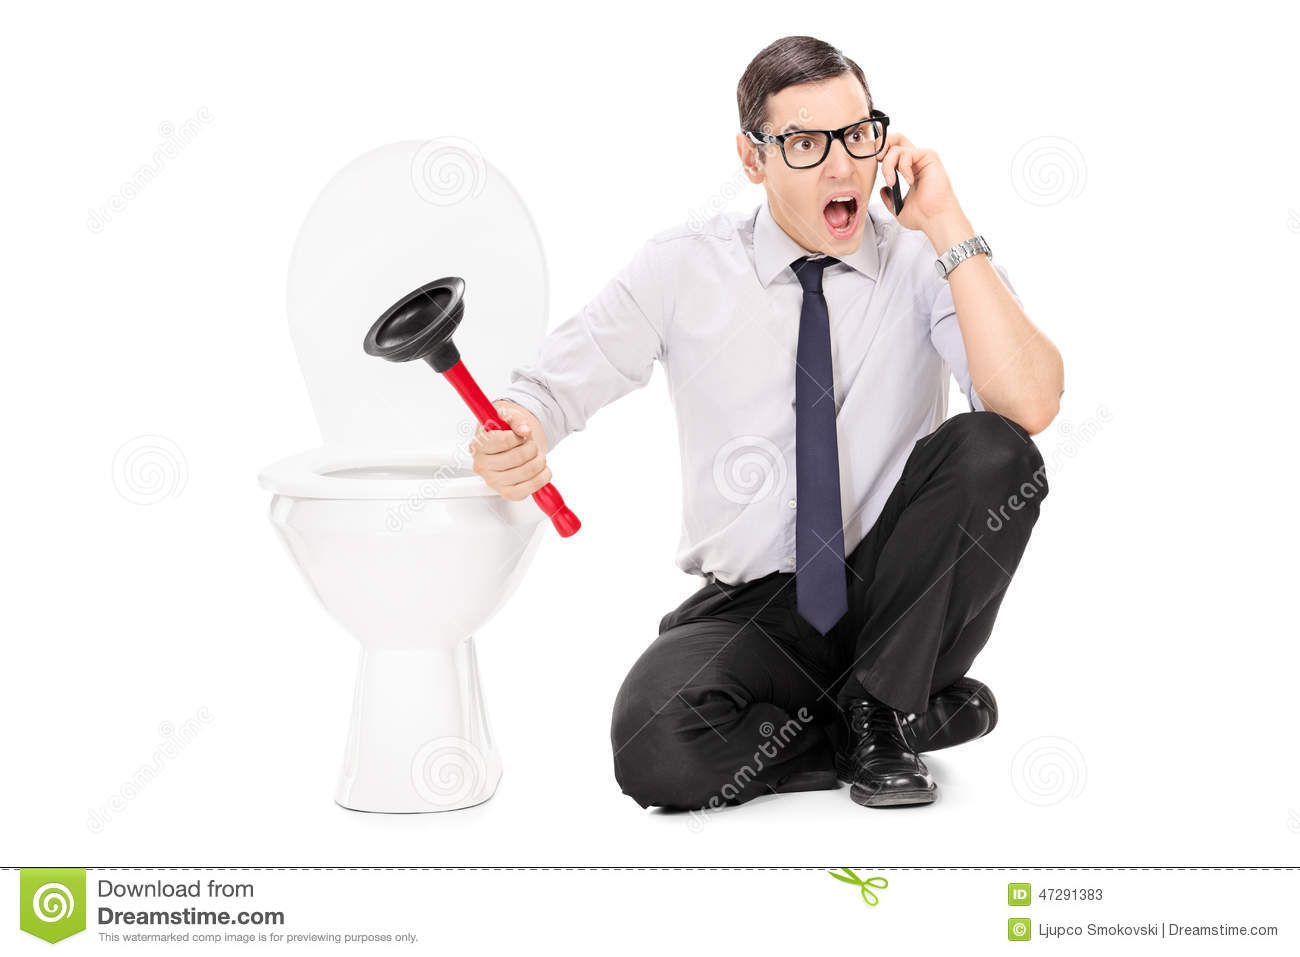phone: (877, 128, 910, 214)
talk: (775, 103, 954, 260)
